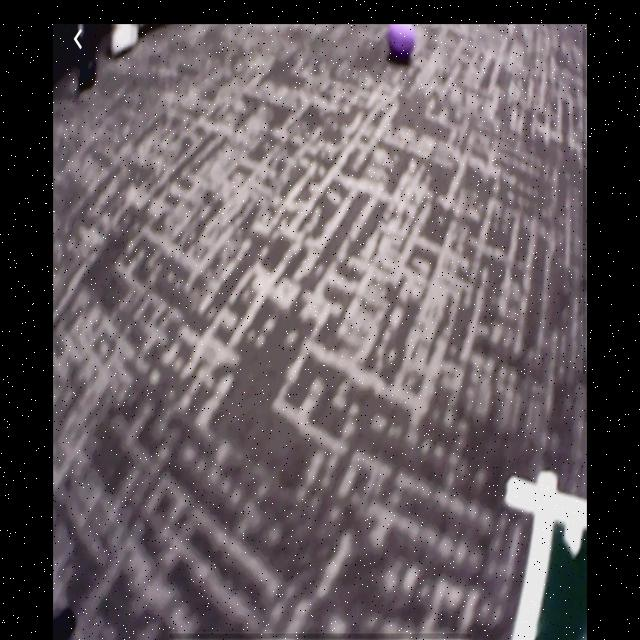ball: (386, 22, 416, 61)
